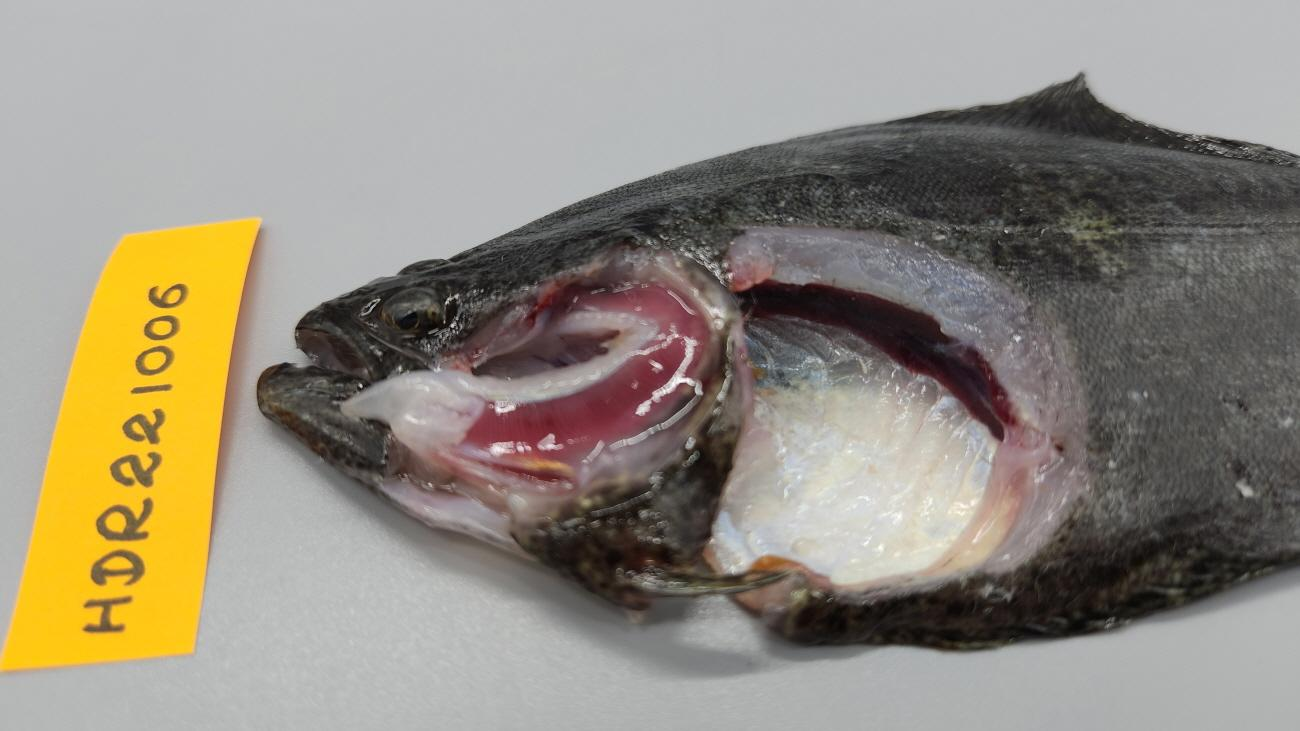POASN: (704, 312, 998, 584)
POKIN: (738, 281, 1005, 442)
POREN: (834, 422, 1051, 591)
